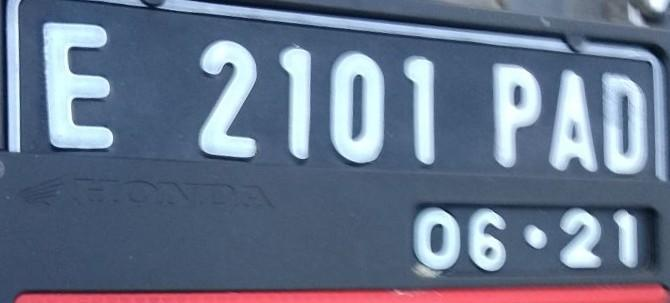clone-license-plate: (9, 0, 669, 274)
